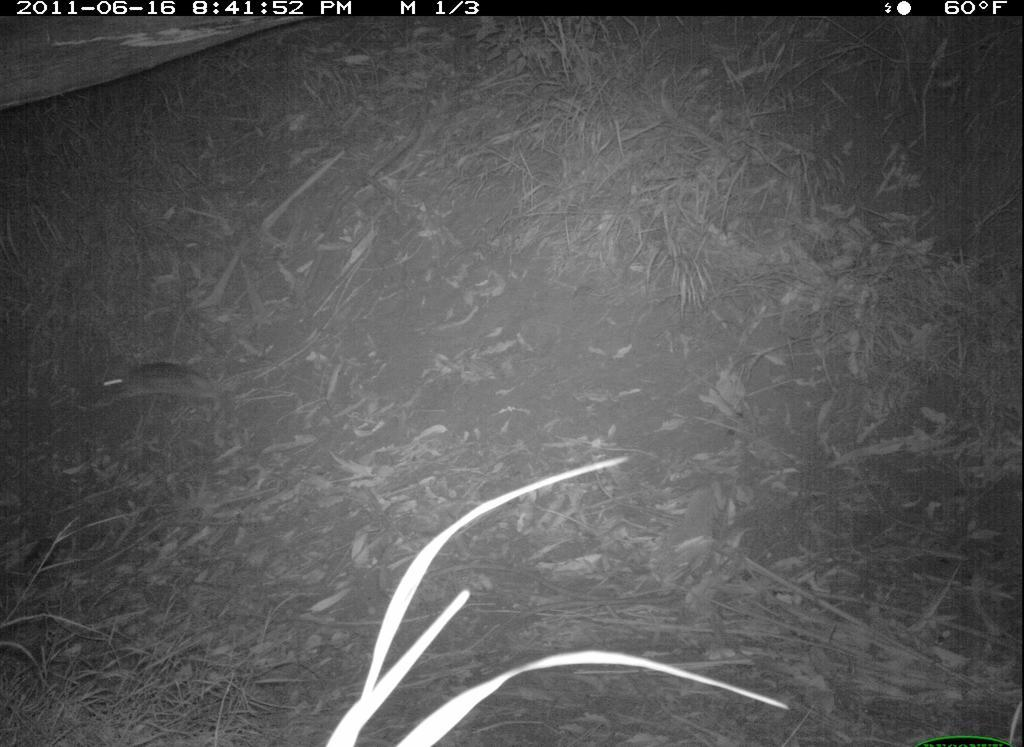rabbit: (89, 346, 231, 426)
